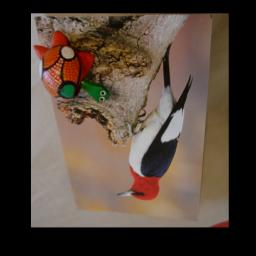Woodpecker: (117, 42, 194, 203)
